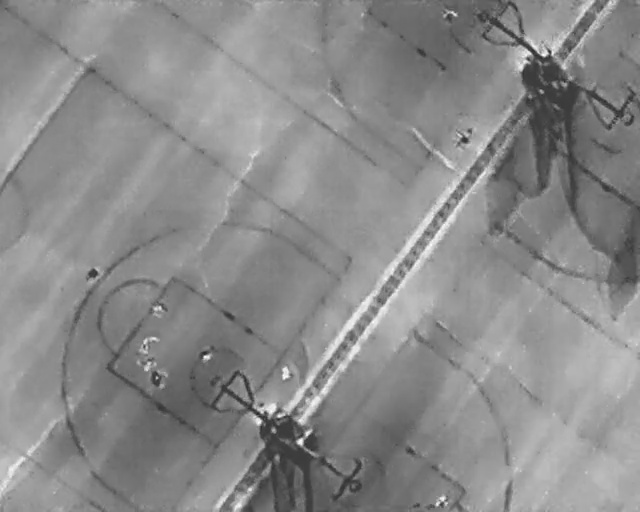Person: (449, 121, 478, 151), (135, 330, 159, 357), (152, 366, 166, 389), (139, 355, 155, 375), (200, 344, 215, 363), (149, 301, 167, 316), (443, 7, 457, 22), (281, 363, 292, 381), (88, 266, 100, 282)
